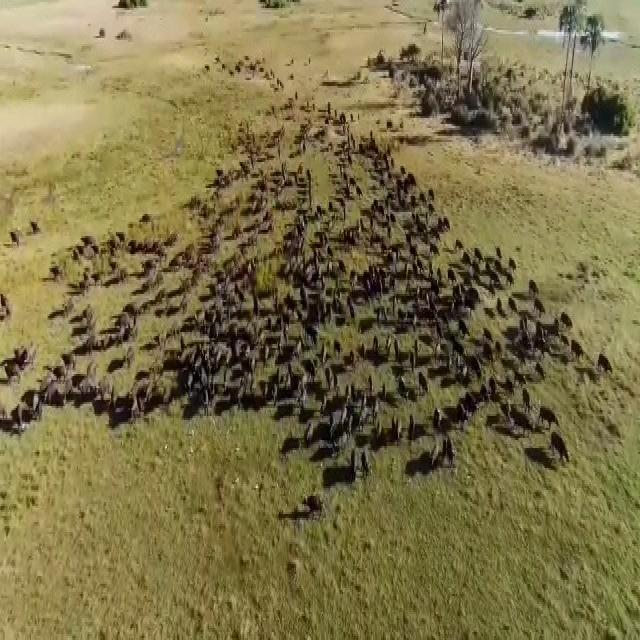Buffalo: (360, 249, 412, 313), (335, 389, 379, 446), (426, 339, 469, 394), (216, 290, 250, 344), (239, 259, 273, 313), (276, 352, 314, 399), (226, 339, 268, 381), (324, 320, 348, 392), (177, 350, 213, 397), (283, 269, 315, 321), (104, 373, 136, 424), (403, 200, 440, 244), (545, 398, 566, 473), (513, 309, 537, 372), (9, 396, 37, 441), (397, 398, 418, 452), (293, 170, 314, 221), (247, 178, 270, 224), (307, 225, 331, 268), (425, 405, 449, 447), (514, 369, 536, 413), (450, 293, 474, 332), (565, 333, 595, 364), (40, 379, 79, 400), (498, 396, 522, 428), (388, 173, 410, 207), (112, 308, 128, 346), (350, 443, 368, 476), (146, 270, 168, 296), (359, 218, 378, 248), (598, 353, 610, 376), (307, 423, 312, 446)
